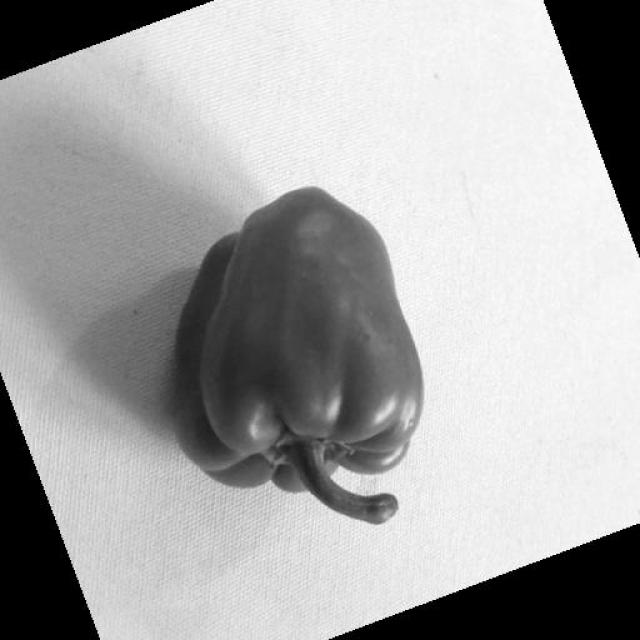Fresh_Capsicum: (158, 195, 430, 518)
